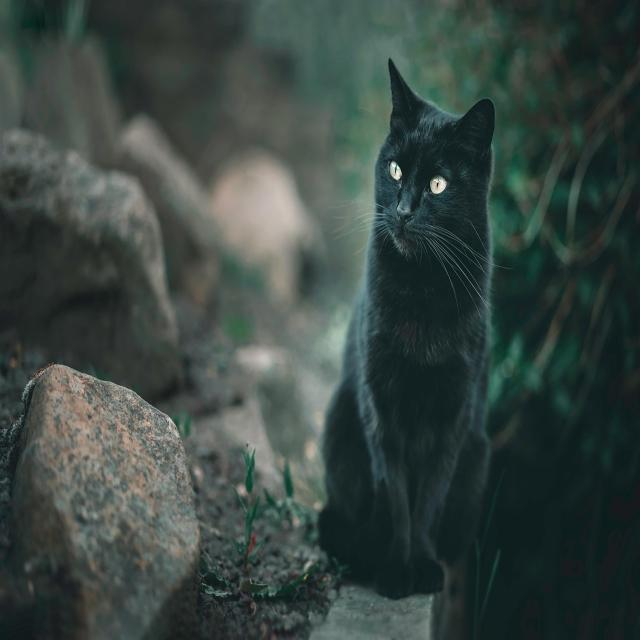cat: (310, 62, 498, 598)
